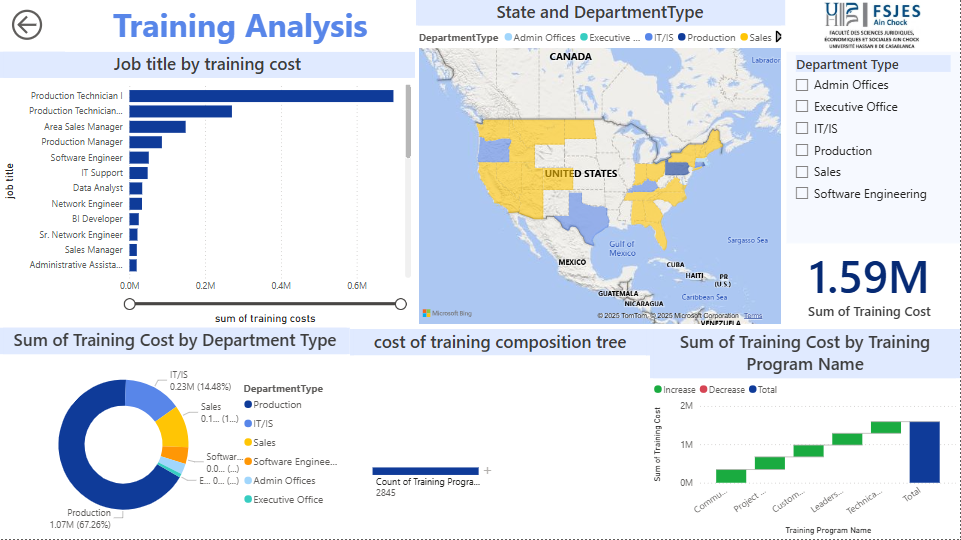

What the dashboard file says about the page in this screenshot:
{"tool":"powerbi","page":{"name":"Page 2","canvas":[1280,720],"ordinal":1},"visuals":[{"type":"clusteredBarChart","title":"Job title by training cost","fields":{"Category":["Cleaned_HR_Data_Analysis.Title"],"Y":["Sum(Cleaned_HR_Data_Analysis.Training Cost)"]},"box":[0,70.7,553.3,368],"z":0},{"type":"donutChart","title":"Sum of Training Cost by Department Type","fields":{"Category":["Cleaned_HR_Data_Analysis.DepartmentType"],"Y":["Sum(Cleaned_HR_Data_Analysis.Training Cost)"]},"box":[0,438.3,466.7,281.7],"z":1000},{"type":"decompositionTreeVisual","title":"cost of training composition tree","fields":{"Analyze":["CountNonNull(Cleaned_HR_Data_Analysis.Training Program Name)"],"ExplainBy":["Cleaned_HR_Data_Analysis.Training Duration(Days)","Cleaned_HR_Data_Analysis.Training Program Name","Cleaned_HR_Data_Analysis.Training Type","Cleaned_HR_Data_Analysis.Training Outcome"]},"box":[467.1,440,400,280],"z":2000},{"type":"waterfallChart","fields":{"Y":["Sum(Cleaned_HR_Data_Analysis.Training Cost)"],"Category":["Cleaned_HR_Data_Analysis.Training Program Name"]},"box":[866.7,440,413.3,280],"z":3000},{"type":"filledMap","fields":{"Category":["Cleaned_HR_Data_Analysis.State"],"Series":["Cleaned_HR_Data_Analysis.DepartmentType"]},"box":[553.3,0,493.3,438.3],"z":4000},{"type":"card","fields":{"Values":["Sum(Cleaned_HR_Data_Analysis.Training Cost)"]},"box":[1046.5,316.9,225.4,121.1],"z":5000},{"type":"actionButton","box":[9.9,8.5,64.8,52.1],"z":6000},{"type":"slicer","fields":{"Values":["Cleaned_HR_Data_Analysis.DepartmentType"]},"box":[1047.9,70.4,232.4,254.9],"z":7000},{"type":"textbox","box":[85.9,0,467.6,70.4],"z":8000},{"type":"image","box":[1060.6,0,207,70.4],"z":9000}]}

Visuals, with their boxes in screenshot pixels (x1, y1, x2, y2), scaled from the page's 1280x720 canvas onto the 961x540 screenshot:
"Job title by training cost" clusteredBarChart: [x1=0, y1=53, x2=415, y2=329]
"Sum of Training Cost by Department Type" donutChart: [x1=0, y1=329, x2=350, y2=539]
"cost of training composition tree" decompositionTreeVisual: [x1=351, y1=330, x2=651, y2=539]
waterfallChart - Sum(Cleaned_HR_Data_Analysis.Training Cost) x Cleaned_HR_Data_Analysis.Training Program Name: [x1=651, y1=330, x2=960, y2=539]
filledMap - Cleaned_HR_Data_Analysis.State x Cleaned_HR_Data_Analysis.DepartmentType: [x1=415, y1=0, x2=786, y2=329]
card - Sum(Cleaned_HR_Data_Analysis.Training Cost): [x1=786, y1=238, x2=955, y2=328]
actionButton: [x1=7, y1=6, x2=56, y2=45]
slicer - Cleaned_HR_Data_Analysis.DepartmentType: [x1=787, y1=53, x2=960, y2=244]
textbox: [x1=64, y1=0, x2=416, y2=53]
image: [x1=796, y1=0, x2=952, y2=53]
